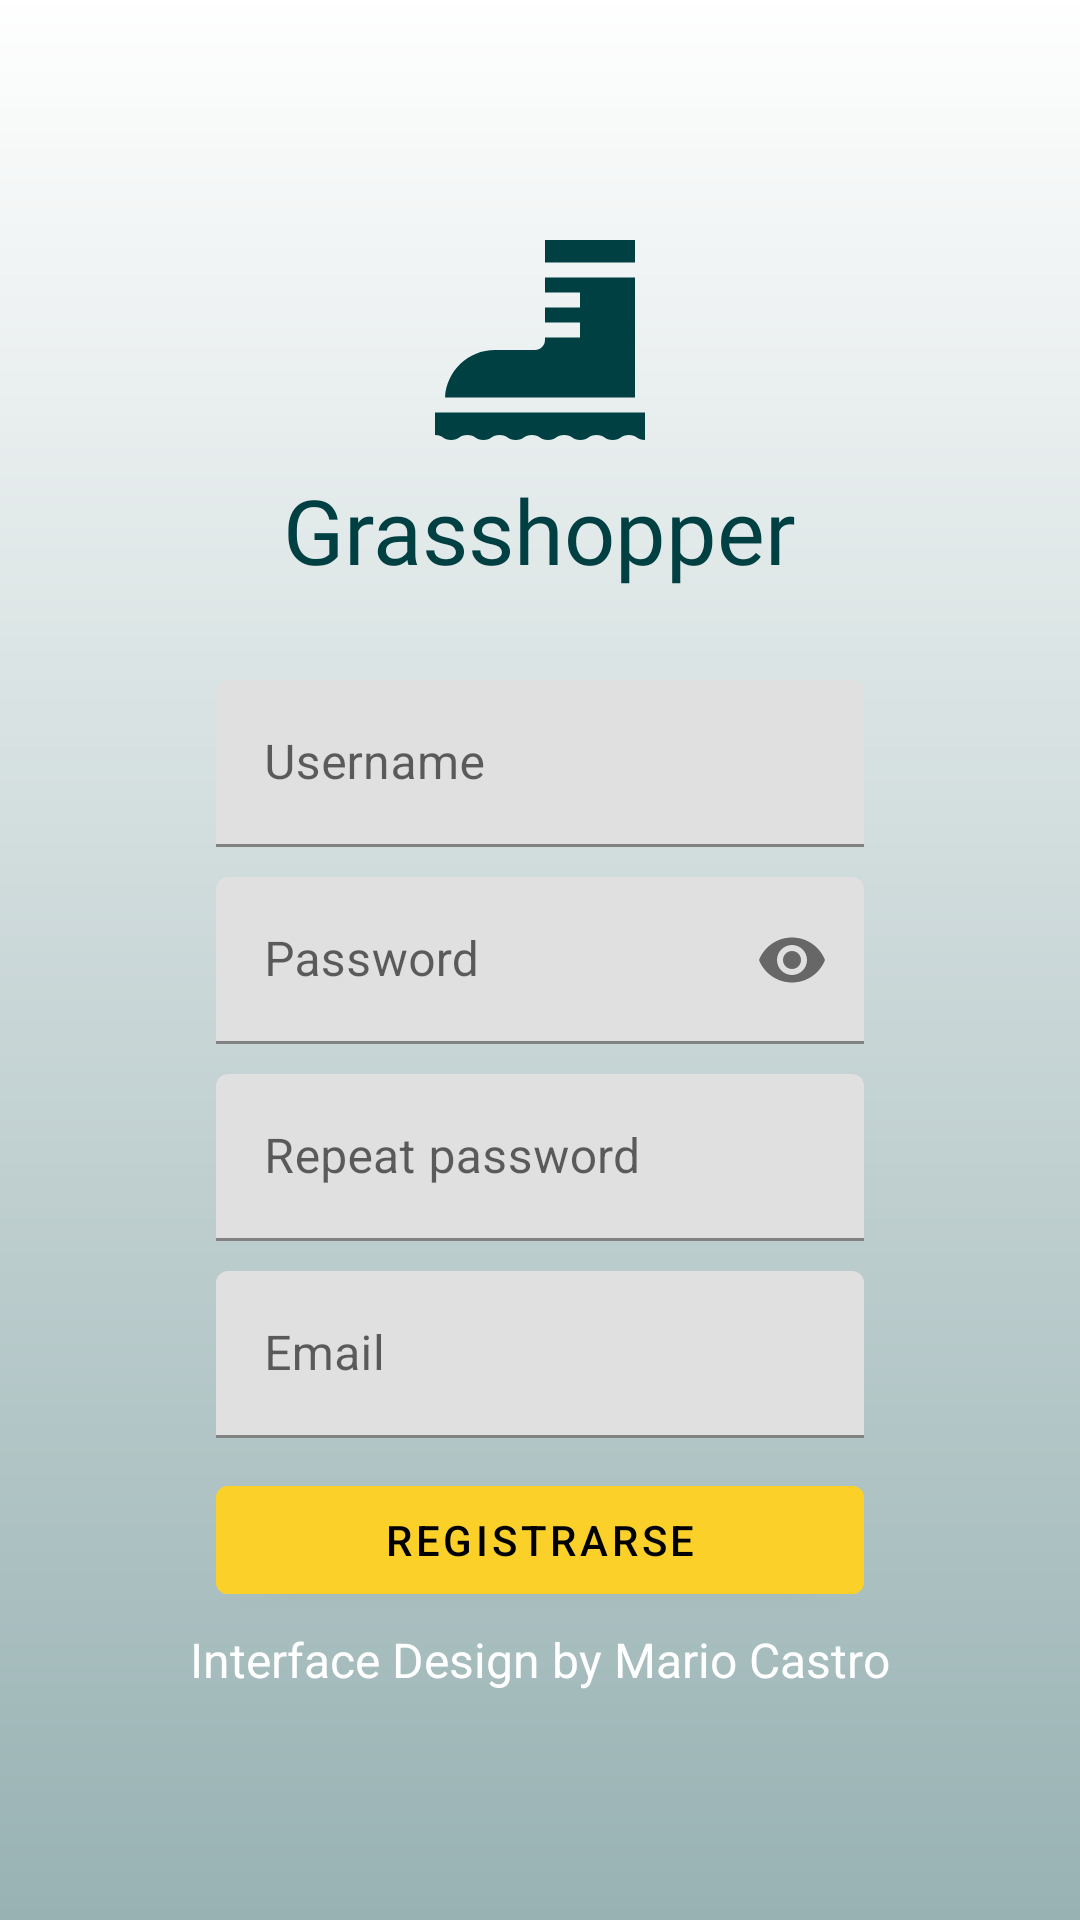

Icon bounding boxes for this 1080px×1920px phone screenshot, format BBox(x1, y1, x2, y2):
boot: BBox(435, 240, 645, 440)
